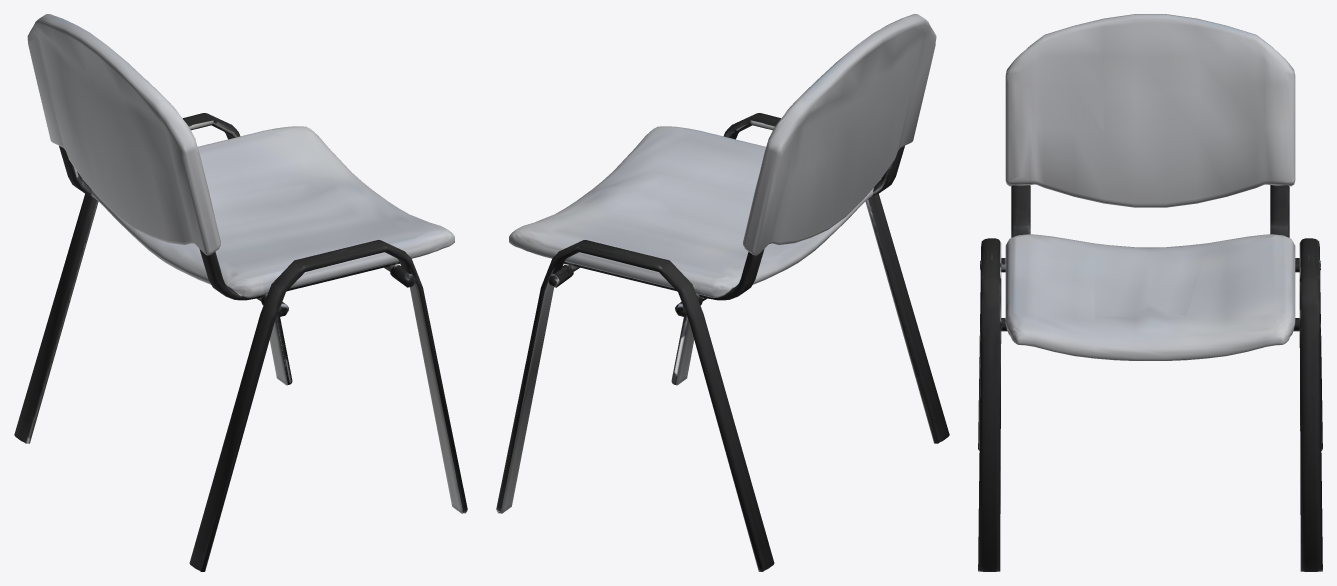
The model's file is chair2.fbx.
3 views of the same model, side by side, from view 1: azimuth 30°, elevation 25°; view 2: azimuth 150°, elevation 25°; view 3: azimuth 270°, elevation 25° (orthographic). The views are drawn at different scales.
Parts seen in each view (by area): view 1: tripo_node_60b596bd; view 2: tripo_node_60b596bd; view 3: tripo_node_60b596bd.
Boxes of the visible parts, left/top/right/bottom form: tripo_node_60b596bd: left=14, top=14, right=467, bottom=571; tripo_node_60b596bd: left=496, top=14, right=949, bottom=571; tripo_node_60b596bd: left=978, top=14, right=1322, bottom=571.
Bounding box in the file's own units: 61.79 × 94.88 × 68.19.
Materials: 1 (1 with a texture image).
